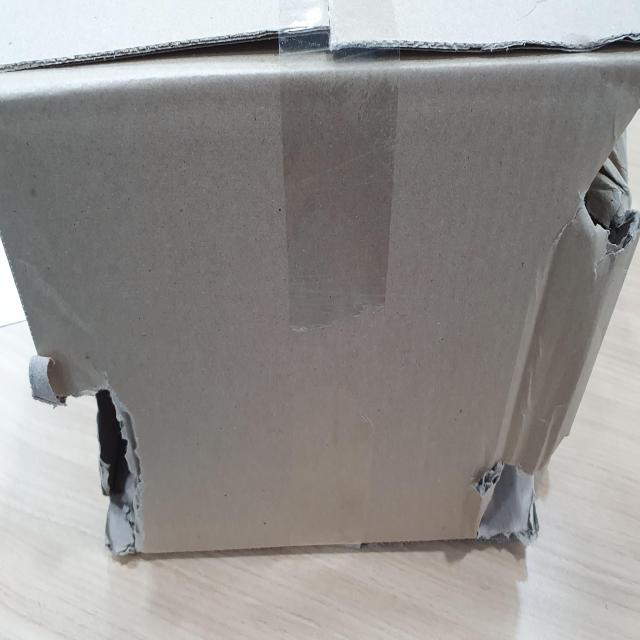damaged: (46, 368, 151, 566), (552, 88, 640, 280), (460, 444, 552, 550)
